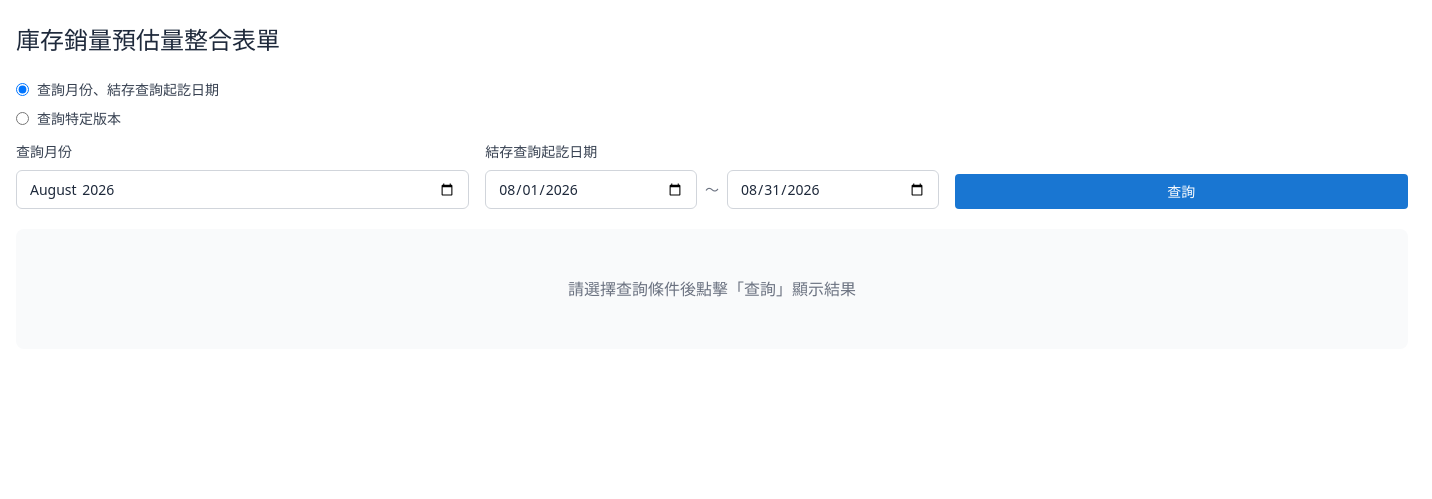
InventoryIntegrationPage › should allow editing modified subtotal with inventory.edit permission
Click the button "查詢" at (1181, 191), box 955,174 -> 1408,209
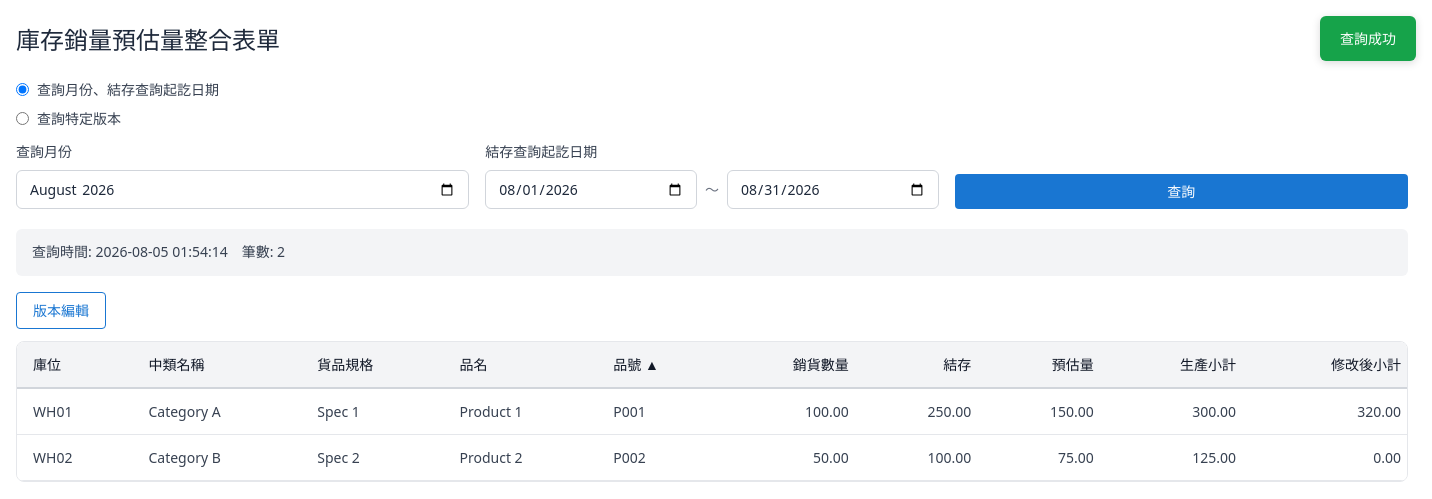
Check: the text "320.00" is shown, box 1252,388 -> 1408,435
Check: the row that starts with "WH01" is shown, box 17,388 -> 1408,435
